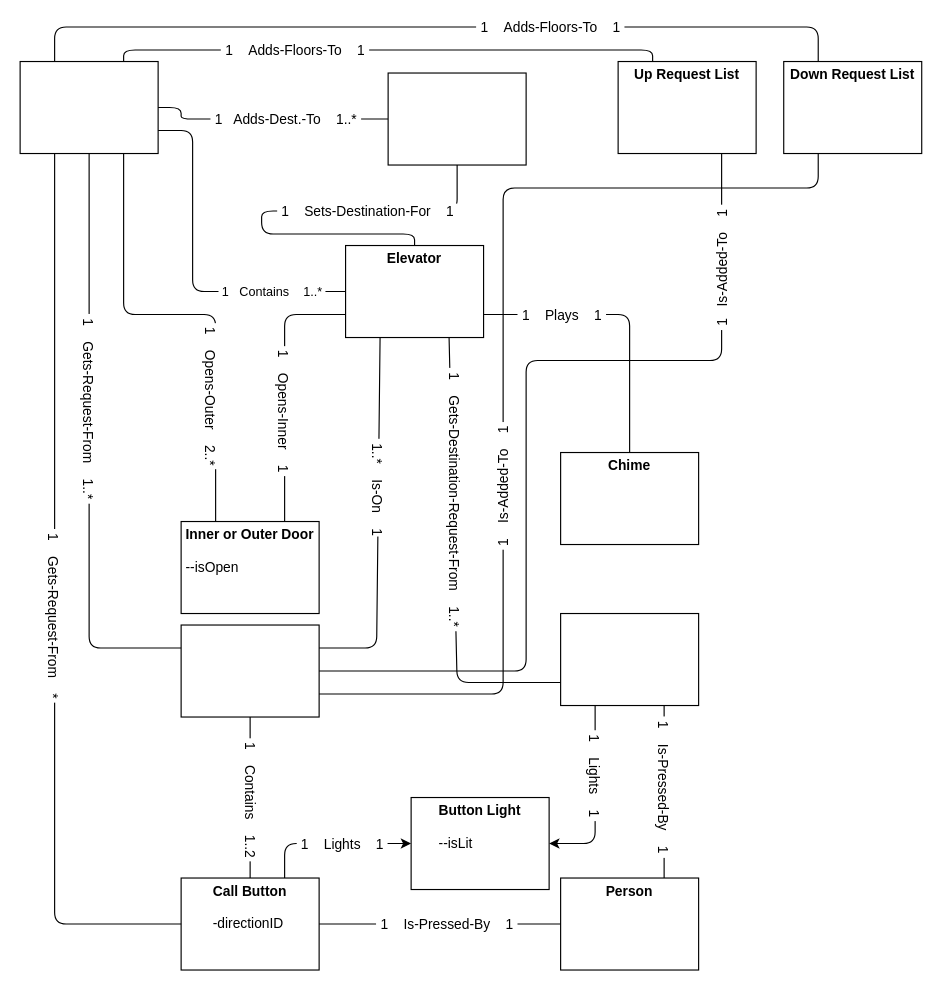
Some shapes in this 942 by 990 pixel diagram are drawn without their labels. The shapes that lost their labels are listed below. From the top down, each one's centre as x and y in pixels, then its label:
At pixel 88 107: "Elevator System".
At pixel 456 118: "Destination List".
At pixel 249 670: "Floor --floorID".
At pixel 629 659: "Floor Button --floorNumber".
